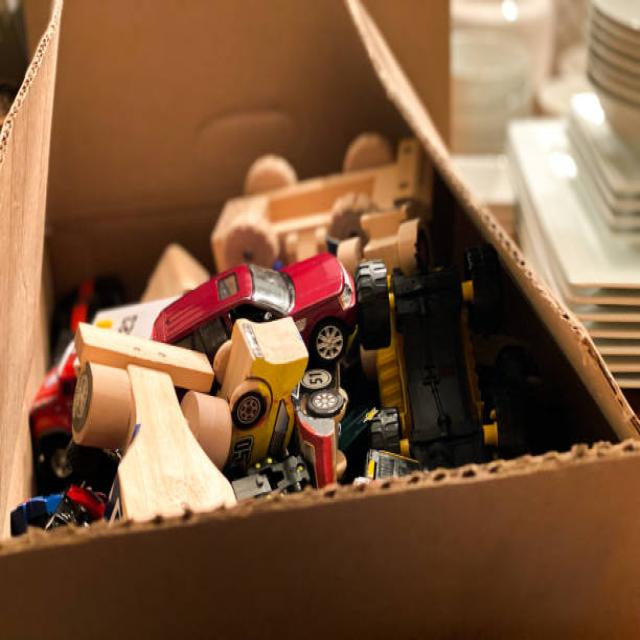cardboard: (1, 3, 640, 629)
plastic: (90, 244, 520, 466)
